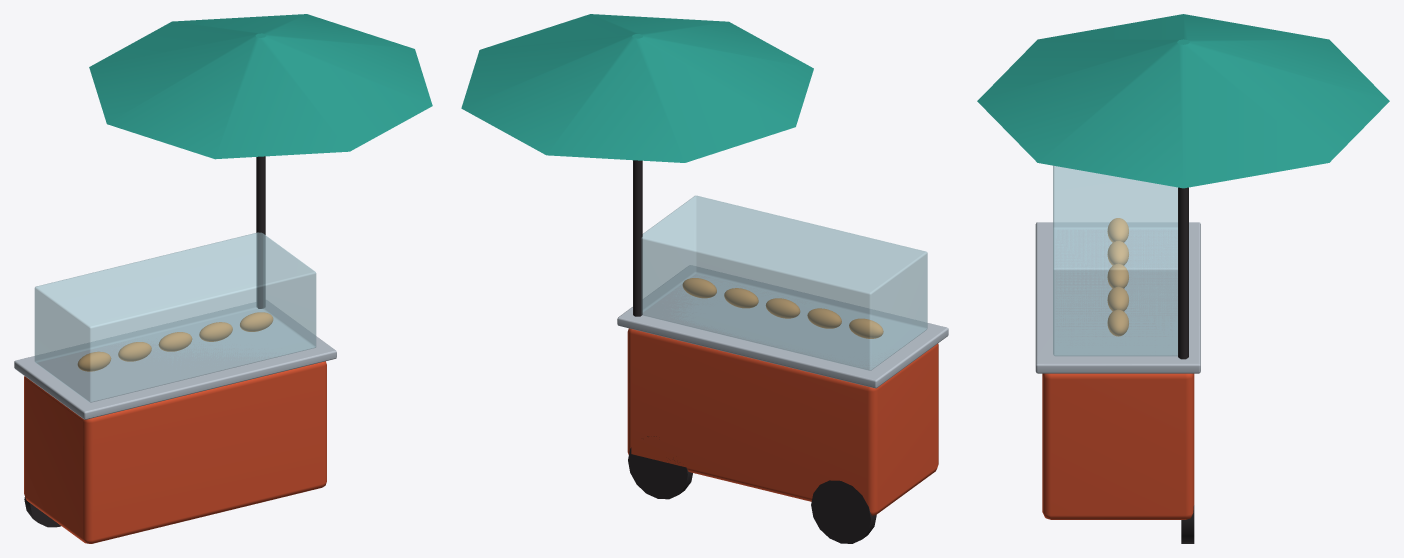
File: banh_mi_cart.glb
3 renders of one model, left to right at view 1: azimuth 30°, elevation 25°; view 2: azimuth 150°, elevation 25°; view 3: azimuth 270°, elevation 25°, orthographic. The views are drawn at different scales.
Visible parts, largest first — view 1: Body, Umb, Case, Top, UmbPole, Bread, Bread.003, Bread.001, Bread.002, Bread.004; view 2: Umb, Body, Case, Top, Wheel, Wheel.001, UmbPole; view 3: Umb, Case, Body, Top, UmbPole.
Part boxes in pixels (box(x1,y1,x2,y2)): Body: box(24, 361, 326, 543); Umb: box(89, 14, 432, 159); Case: box(34, 232, 316, 402); Top: box(14, 300, 336, 419); UmbPole: box(256, 156, 265, 308); Bread: box(77, 351, 111, 371); Bread.003: box(199, 322, 232, 341); Bread.001: box(118, 342, 151, 361); Bread.002: box(158, 332, 192, 351); Bread.004: box(240, 312, 273, 331); Umb: box(461, 14, 813, 162); Body: box(627, 328, 938, 515); Case: box(641, 195, 927, 370); Top: box(617, 265, 948, 388); Wheel: box(811, 480, 876, 543); Wheel.001: box(628, 436, 692, 499); UmbPole: box(633, 160, 642, 316); Umb: box(977, 14, 1389, 188); Case: box(1053, 165, 1177, 356); Body: box(1042, 373, 1194, 519); Top: box(1035, 222, 1200, 373); UmbPole: box(1178, 187, 1188, 359).
Size of the model in its own units: 2.43 by 2.6 by 1.9.
